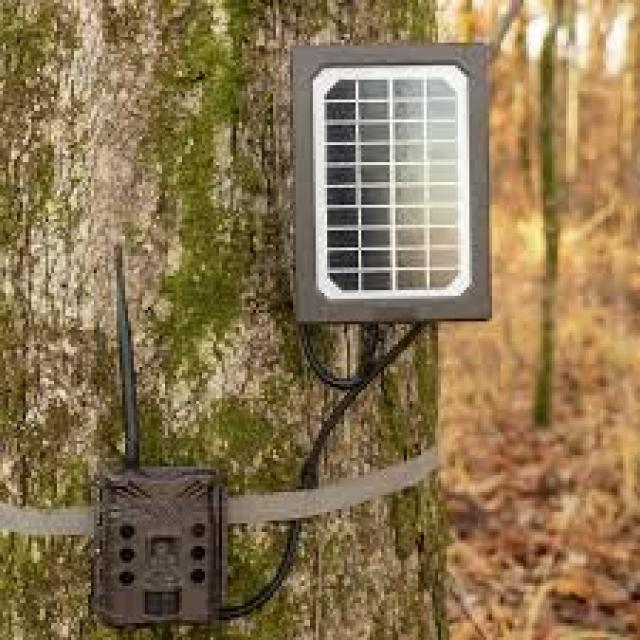no faulty: (321, 73, 474, 294)
